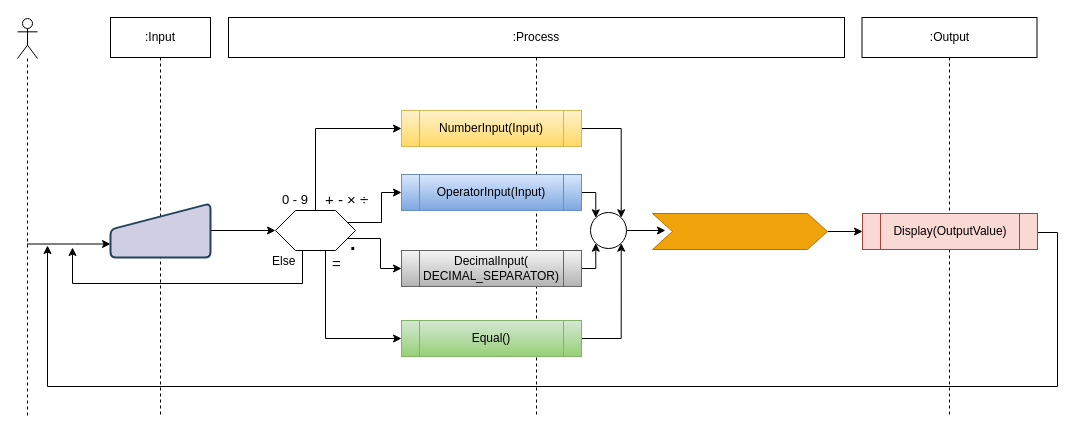
This 1083x436 diagram has some shape labels left out. Each missing label, with the box of its shape:
:UserInput: (16, 18, 38, 418)
Input: (274, 210, 356, 250)
OutputValue = Processed(Input): (652, 212, 828, 250)
UserInput(Input): (109, 202, 211, 258)
